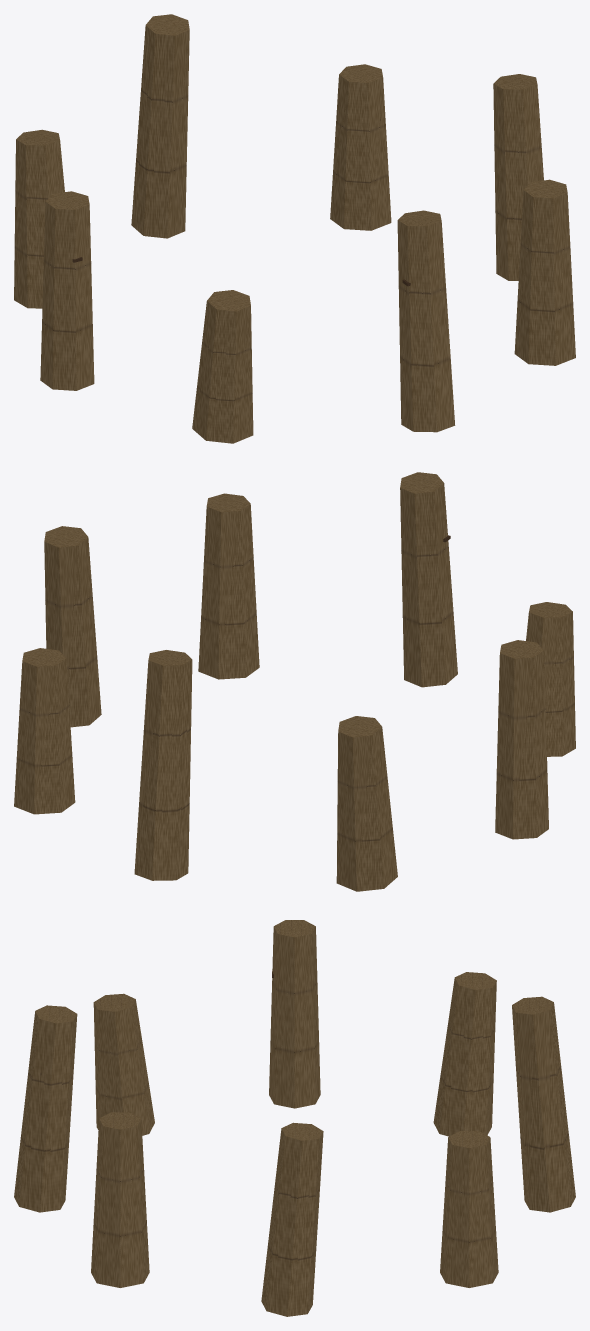
The model's file is stone_circles.glb.
3 renders of one model, top to bottom at view 1: azimuth 30°, elevation 25°; view 2: azimuth 150°, elevation 25°; view 3: azimuth 270°, elevation 25°, orthographic. The views are drawn at different scales.
Visible parts, largest first — view 1: stone_circles; view 2: stone_circles; view 3: stone_circles.
Boxes of the visible parts, x1,y1,x2,y2 form: stone_circles: (14,14,575,443); stone_circles: (14,472,575,891); stone_circles: (14,920,575,1316).
Bounding box in the file's own units: 4.52 × 1.83 × 4.67.
1 material, 1 textured.
